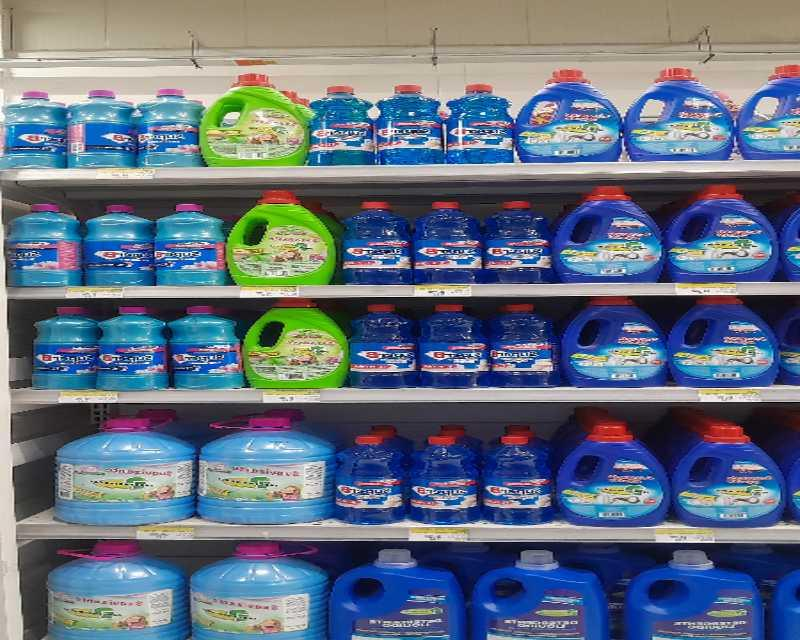COOMERSA-AZUL-BOTELLA-1000_10: (671, 423, 786, 526), (549, 184, 667, 284), (672, 181, 778, 287), (622, 65, 737, 161), (561, 424, 669, 525), (514, 65, 623, 165), (668, 299, 779, 385), (562, 298, 664, 387), (736, 63, 800, 160)
